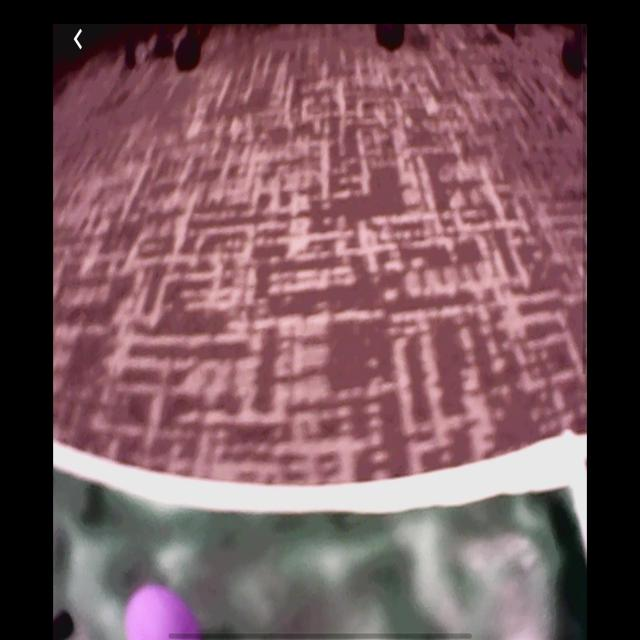ball: (123, 588, 203, 640)
